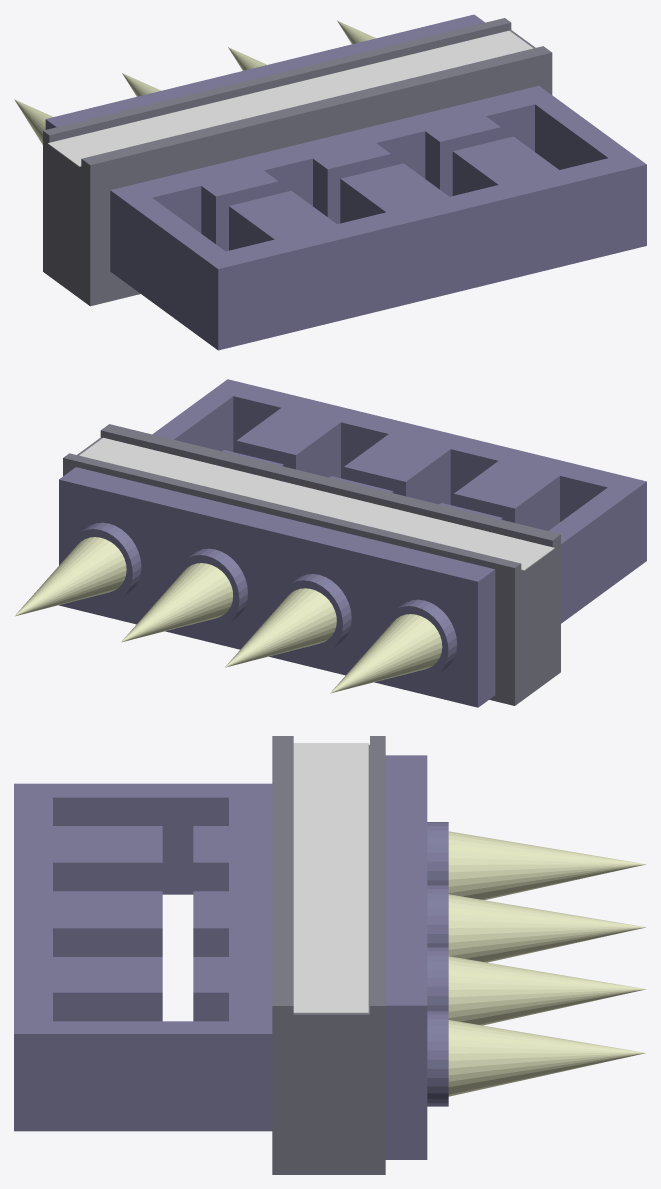
Rendered from griffes.fbx.
The picture shows the model from 3 angles, top to bottom: view 1: azimuth 30°, elevation 25°; view 2: azimuth 150°, elevation 25°; view 3: azimuth 270°, elevation 25°; orthographic projection. The views are drawn at different scales.
Visible parts, largest first — view 1: Main, Griffes; view 2: Main, Griffes; view 3: Main, Griffes.
Part boxes in pixels (x1,y1,x2,y2): Main: [43, 14, 646, 350]; Griffes: [14, 20, 375, 144]; Main: [59, 379, 646, 707]; Griffes: [14, 537, 442, 693]; Main: [14, 736, 448, 1174]; Griffes: [448, 831, 645, 1096].
Size of the model in its own units: 49.1 by 14.26 by 48.43.
